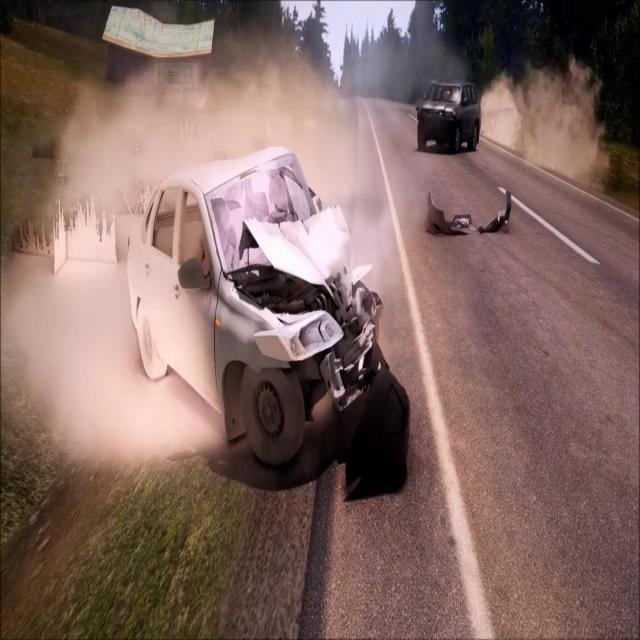accident: (121, 137, 389, 487)
